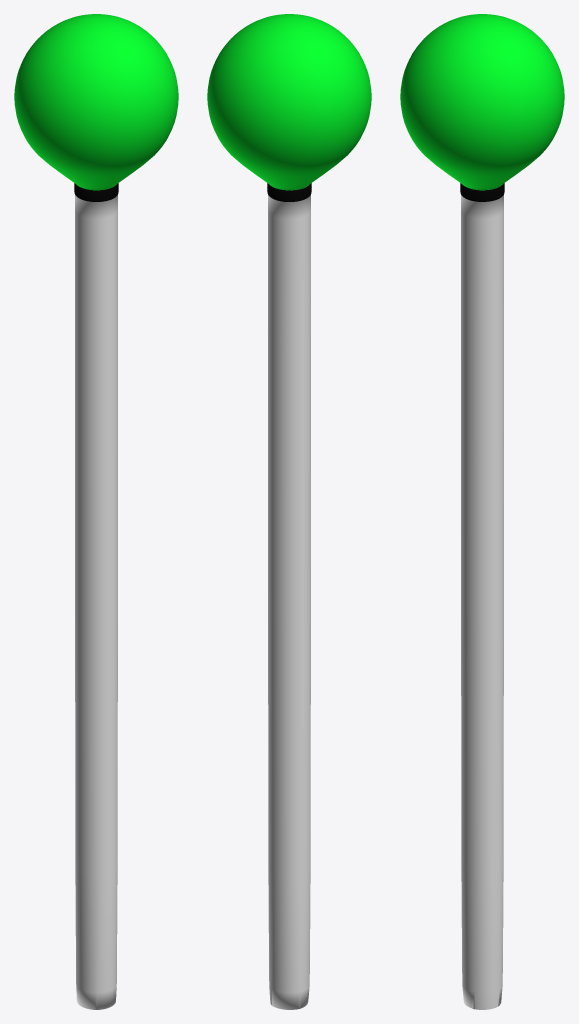
Rendered from waypoint.fbx.
The picture shows the model from 3 angles, left to right: view 1: azimuth 30°, elevation 25°; view 2: azimuth 150°, elevation 25°; view 3: azimuth 270°, elevation 25°; orthographic projection.
Visible parts, largest first — view 1: Free beacon; view 2: Free beacon; view 3: Free beacon.
Boxes of the visible parts, bbox=[...] form: Free beacon: bbox=[14, 14, 178, 1009]; Free beacon: bbox=[207, 14, 371, 1009]; Free beacon: bbox=[400, 14, 564, 1009].
Size of the model in its own units: 90.23 by 594 by 90.23.
